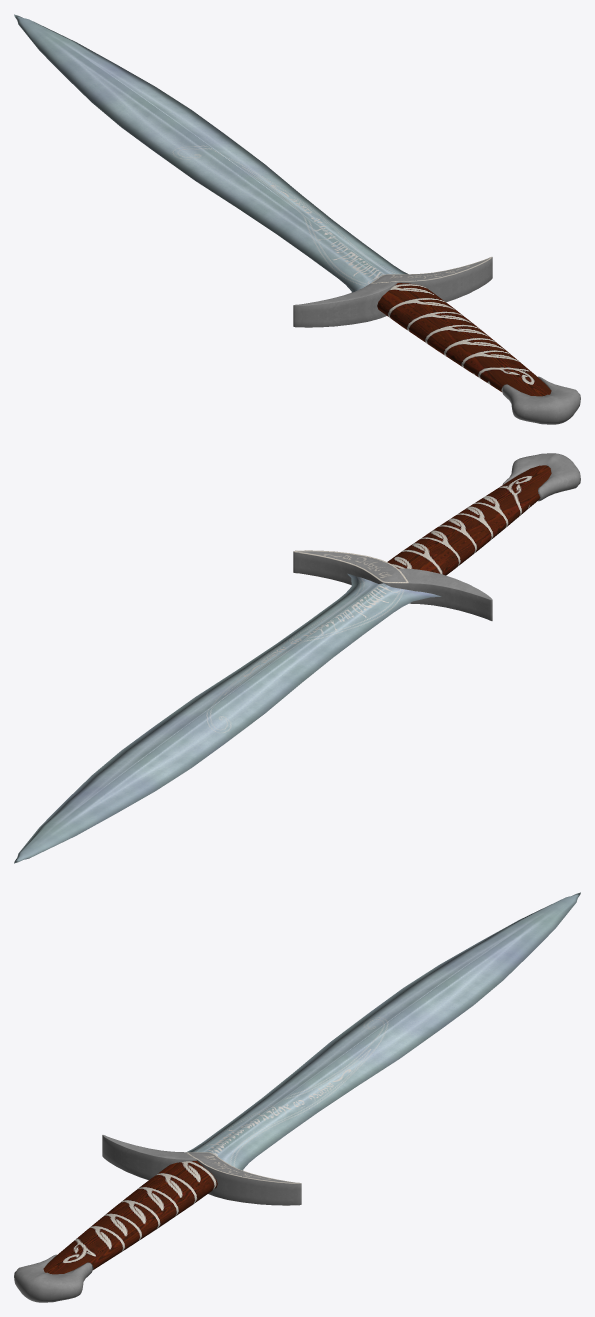
File: StingSword.obj
3 renders of one model, top to bottom at view 1: azimuth 30°, elevation 25°; view 2: azimuth 150°, elevation 25°; view 3: azimuth 330°, elevation 25°, orthographic.
Parts seen in each view (by area): view 1: Lame_Plane, Manche_Circle, Garde_Plane.002, Pommeau_Plane.001; view 2: Lame_Plane, Manche_Circle, Garde_Plane.002, Pommeau_Plane.001; view 3: Lame_Plane, Manche_Circle, Garde_Plane.002, Pommeau_Plane.001.
Part boxes in pixels (x1,y1,x2,y2): Lame_Plane: (14,14,408,292); Manche_Circle: (377,283,551,396); Garde_Plane.002: (293,257,492,327); Pommeau_Plane.001: (501,376,580,424); Lame_Plane: (14,573,441,863); Manche_Circle: (387,465,551,575); Garde_Plane.002: (293,550,492,620); Pommeau_Plane.001: (502,453,580,501); Lame_Plane: (186,892,580,1170); Manche_Circle: (43,1161,217,1274); Garde_Plane.002: (102,1135,301,1205); Pommeau_Plane.001: (14,1254,93,1302).
Size of the model in its own units: 12.71 by 1.71 by 60.61.
1 material, 1 textured.
